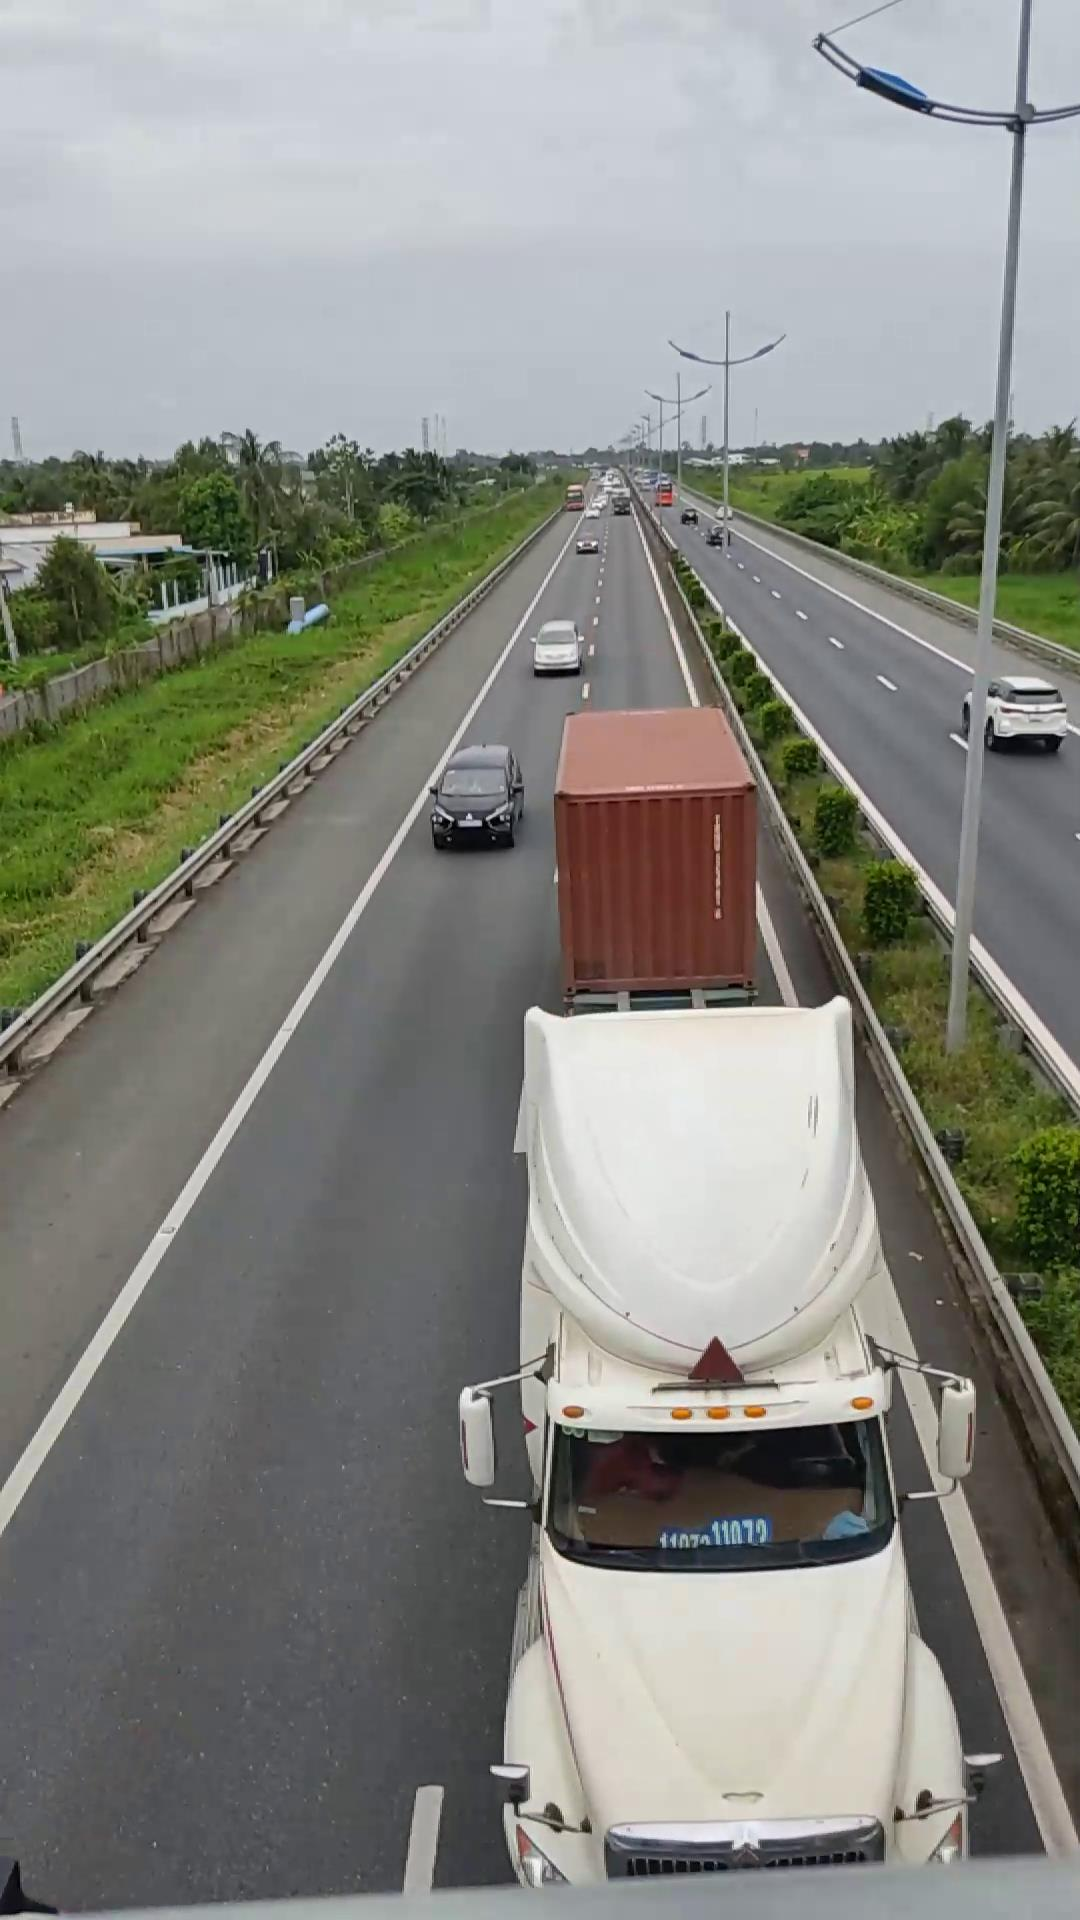car: (427, 742, 527, 847), (961, 670, 1068, 752)
container: (485, 700, 956, 1891)
